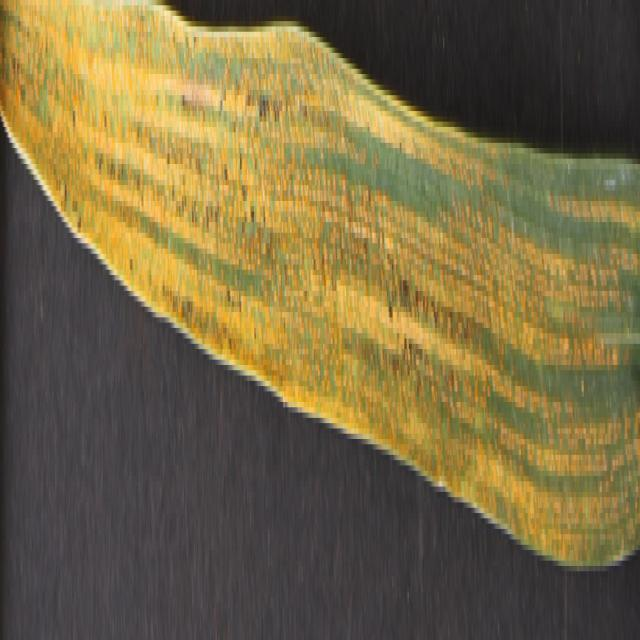leaf rust: (1, 11, 640, 550)
